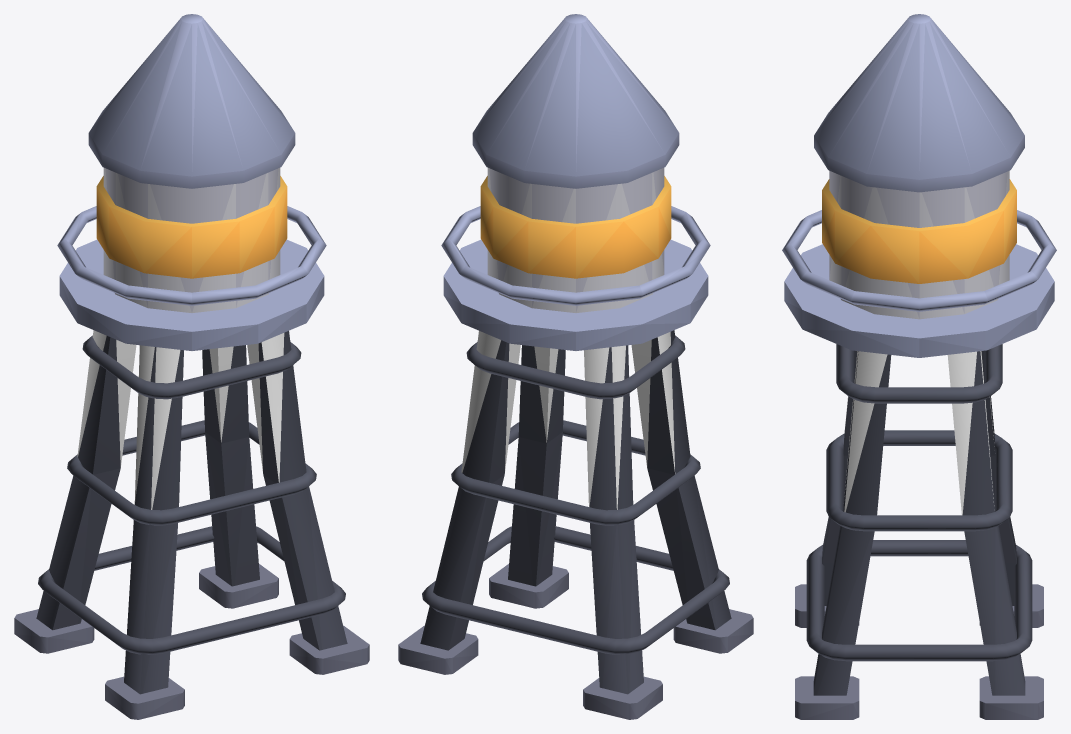
File: water-tower.obj
3 renders of one model, left to right at view 1: azimuth 30°, elevation 25°; view 2: azimuth 150°, elevation 25°; view 3: azimuth 270°, elevation 25°, orthographic. The views are drawn at different scales.
Size of the model in its own units: 0.8522 by 2.14 by 0.8318.
